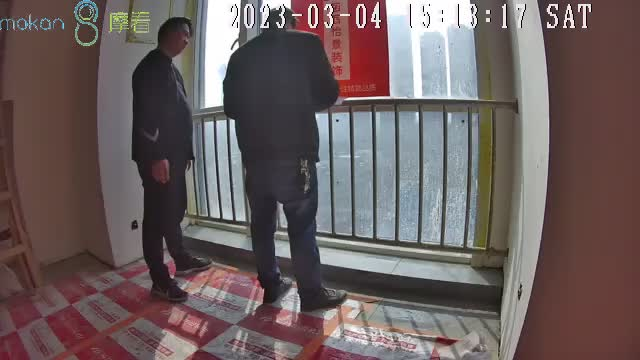people: (222, 6, 348, 313), (130, 17, 213, 303)
window: (189, 1, 492, 259)
